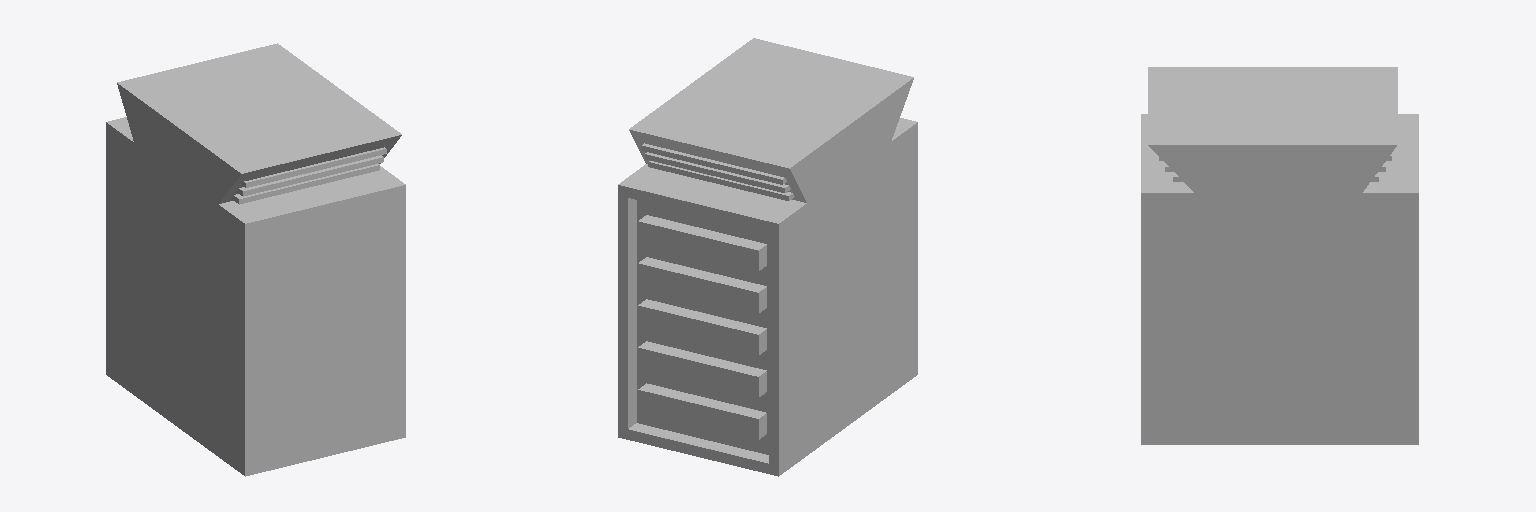
Rendered from computer_cluster_unit_mirrored.obj.
3 views of the same model, side by side, from view 1: azimuth 30°, elevation 25°; view 2: azimuth 150°, elevation 25°; view 3: azimuth 270°, elevation 25° (orthographic).
Parts seen in each view (by area): view 1: cube, cuboid; view 2: cube, cuboid; view 3: cube, cuboid.
Boxes of the visible parts, <box> form: cube: <box>106,117,405,476</box>; cuboid: <box>117,43,401,203</box>; cube: <box>618,118,917,476</box>; cuboid: <box>629,38,913,202</box>; cube: <box>1141,114,1418,444</box>; cuboid: <box>1148,67,1397,192</box>.
Size of the model in its own units: 2 by 3.56 by 3.